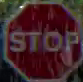Stop: (5, 1, 82, 81)
